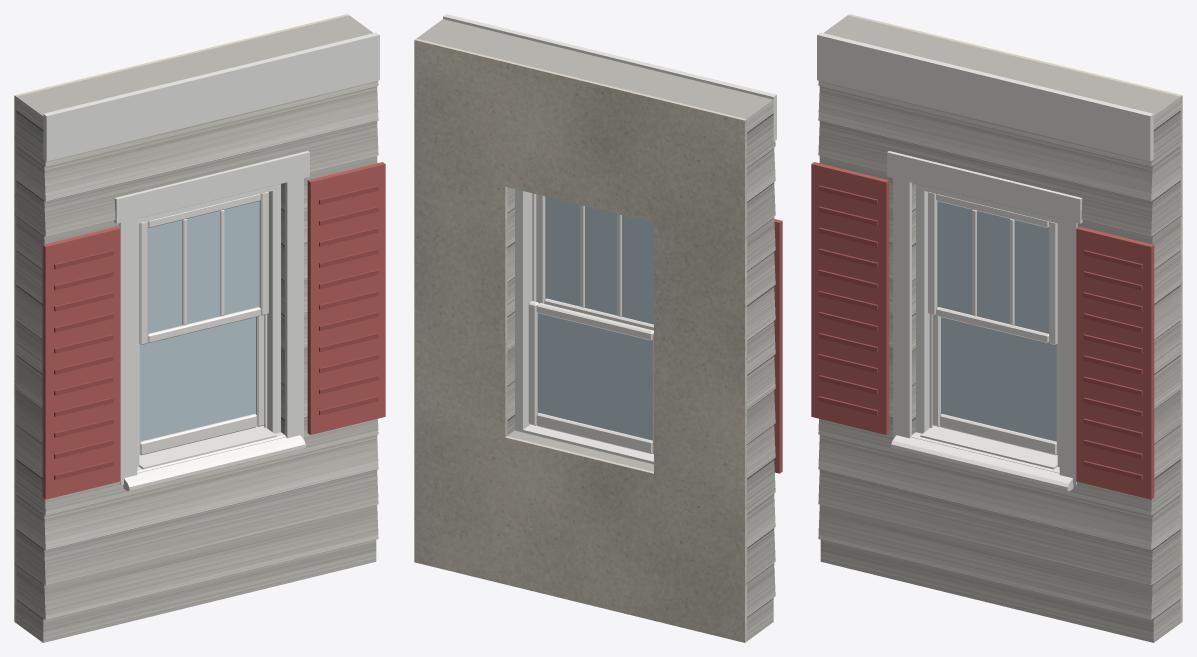
File: wing_wall_window.glb
The picture shows the model from 3 angles, left to right: view 1: azimuth 30°, elevation 25°; view 2: azimuth 150°, elevation 25°; view 3: azimuth 330°, elevation 25°; orthographic projection.
Visible parts, largest first — view 1: wing_wall_window_siding, wing_wall_window_trim, wing_wall_window_shutter, wing_wall_window_glass, wing_wall_window_sash, wing_wall_window_shutter_dark, wing_wall_window_frame, wing_wall_window_plaster; view 2: wing_wall_window_plaster, wing_wall_window_siding, wing_wall_window_glass, wing_wall_window_sash, wing_wall_window_frame, wing_wall_window_trim, wing_wall_window_shutter; view 3: wing_wall_window_siding, wing_wall_window_trim, wing_wall_window_shutter, wing_wall_window_glass, wing_wall_window_sash, wing_wall_window_shutter_dark, wing_wall_window_frame, wing_wall_window_plaster.
Part boxes in pixels (x1,y1,x2,y2): wing_wall_window_siding: [16, 15, 378, 642]; wing_wall_window_trim: [43, 32, 379, 490]; wing_wall_window_shutter: [42, 162, 385, 499]; wing_wall_window_glass: [140, 201, 259, 441]; wing_wall_window_sash: [139, 192, 268, 455]; wing_wall_window_shutter_dark: [54, 185, 378, 479]; wing_wall_window_frame: [137, 184, 280, 466]; wing_wall_window_plaster: [14, 14, 349, 622]; wing_wall_window_plaster: [414, 38, 746, 642]; wing_wall_window_siding: [416, 19, 775, 640]; wing_wall_window_glass: [537, 196, 653, 440]; wing_wall_window_sash: [528, 194, 653, 454]; wing_wall_window_frame: [515, 189, 536, 432]; wing_wall_window_trim: [443, 14, 776, 464]; wing_wall_window_shutter: [774, 219, 782, 473]; wing_wall_window_siding: [818, 15, 1180, 642]; wing_wall_window_trim: [817, 32, 1153, 490]; wing_wall_window_shutter: [811, 162, 1154, 499]; wing_wall_window_glass: [937, 201, 1056, 441]; wing_wall_window_sash: [928, 192, 1057, 455]; wing_wall_window_shutter_dark: [818, 185, 1142, 479]; wing_wall_window_frame: [916, 184, 1059, 466]; wing_wall_window_plaster: [847, 14, 1182, 622].
Bounding box in the file's own units: 2.04 × 3.04 × 0.38.
Materials: 8 (2 with a texture image).
